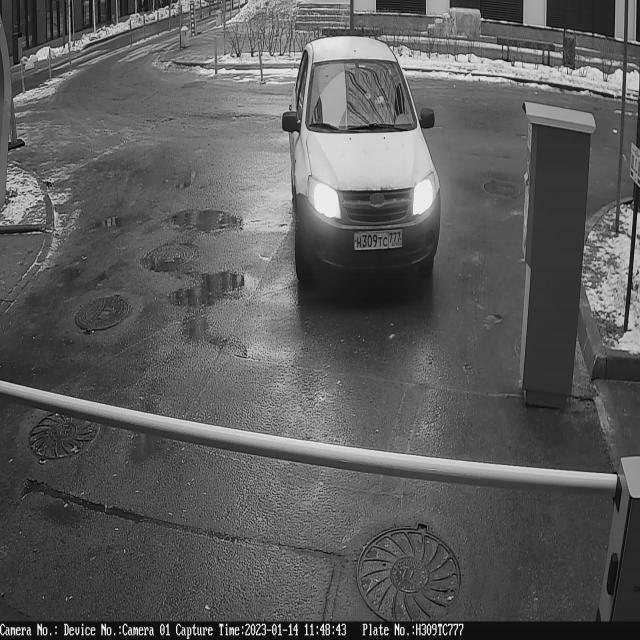car-plate-numbers: (353, 229, 406, 255)
